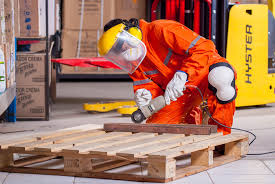Person_wearing_helmet: (102, 14, 140, 61)
